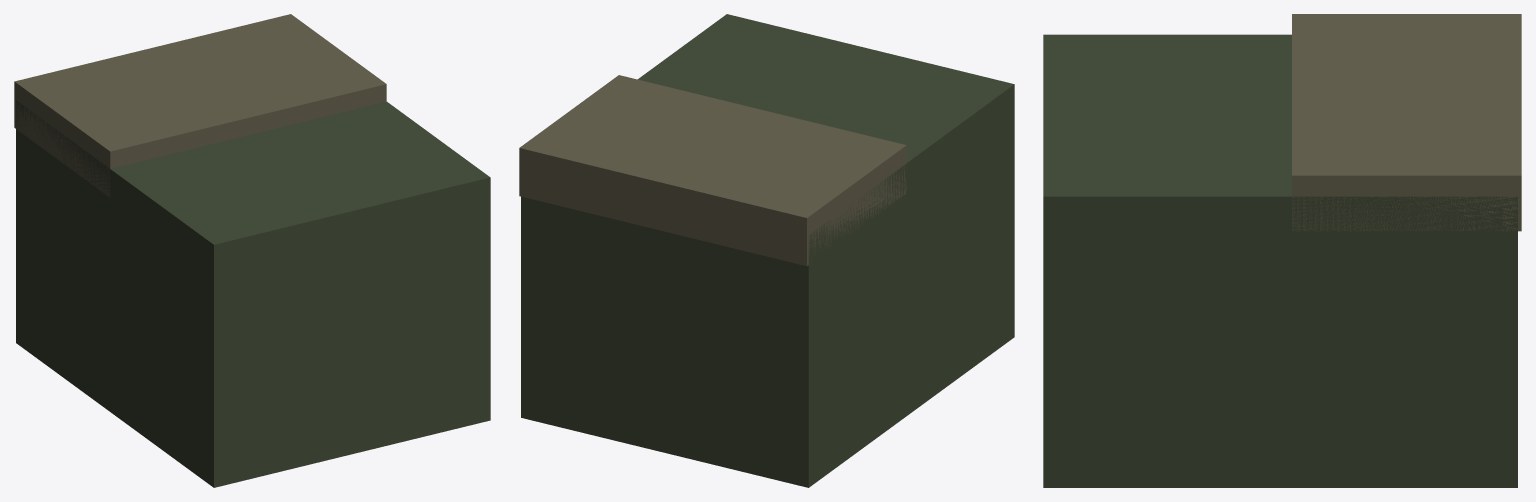
The model's file is ammo_pouch_l.glb.
The picture shows the model from 3 angles, left to right: view 1: azimuth 30°, elevation 25°; view 2: azimuth 150°, elevation 25°; view 3: azimuth 270°, elevation 25°; orthographic projection. The views are drawn at different scales.
Visible parts, largest first — view 1: ammo_pouch_l; view 2: ammo_pouch_l; view 3: ammo_pouch_l.
Boxes of the visible parts, x1=… form: ammo_pouch_l: x1=14, y1=14, x2=490, y2=487; ammo_pouch_l: x1=519, y1=14, x2=1014, y2=487; ammo_pouch_l: x1=1043, y1=14, x2=1521, y2=487.
Size of the model in its own units: 0.1 by 0.09 by 0.125.
Materials: 1 (1 with a texture image).
